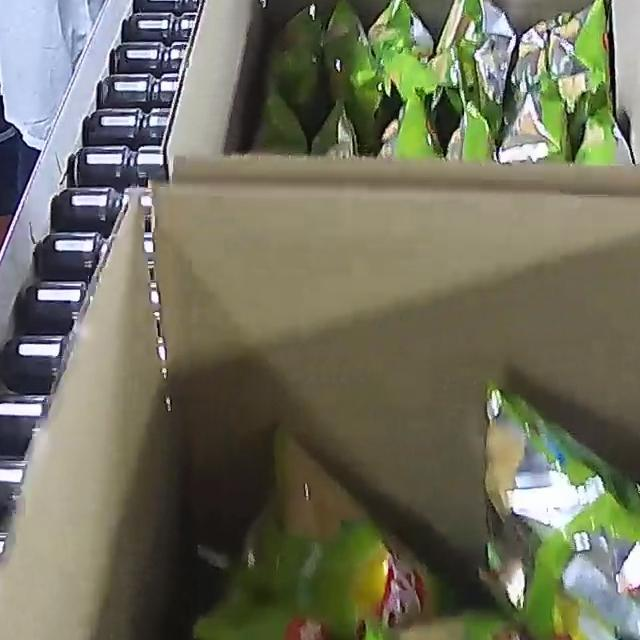yogurt: (102, 383, 640, 640), (242, 0, 640, 180)
